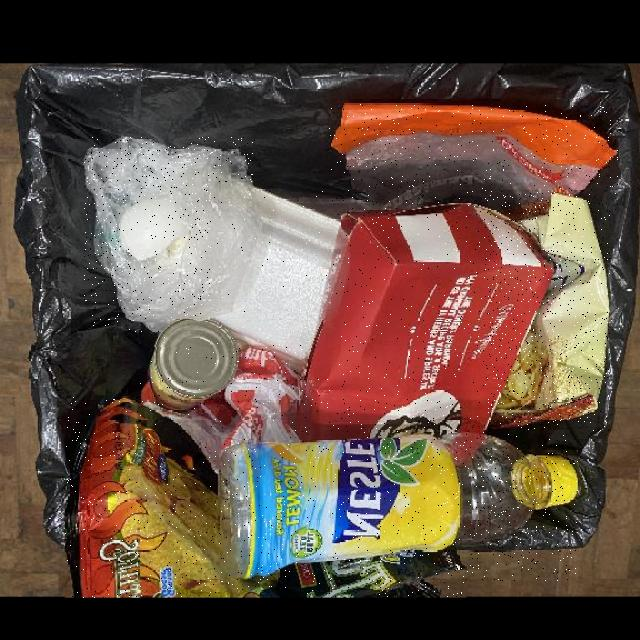biowaste: (121, 197, 186, 259)
metal: (146, 317, 237, 409)
paper: (288, 203, 554, 466), (139, 347, 302, 474)
plastic: (218, 432, 578, 580), (84, 137, 261, 332)
styrofoam: (212, 185, 341, 372)
wrapper: (65, 397, 466, 597), (329, 104, 618, 211), (484, 193, 610, 431)
